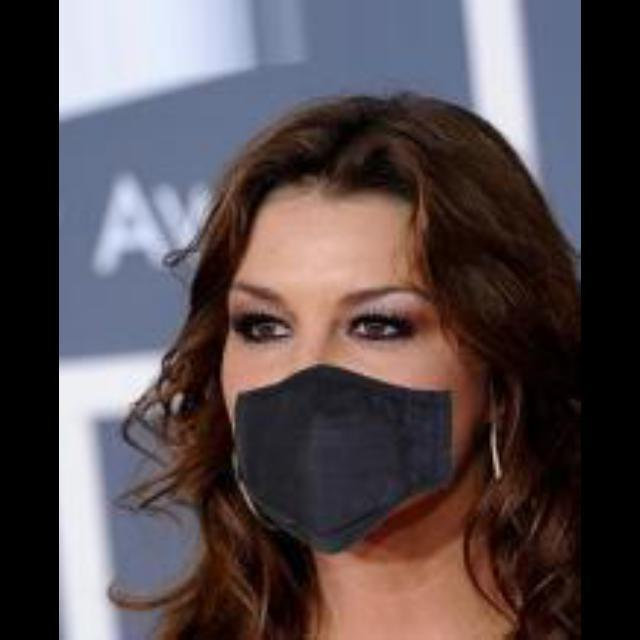suspicion: (222, 123, 548, 557)
